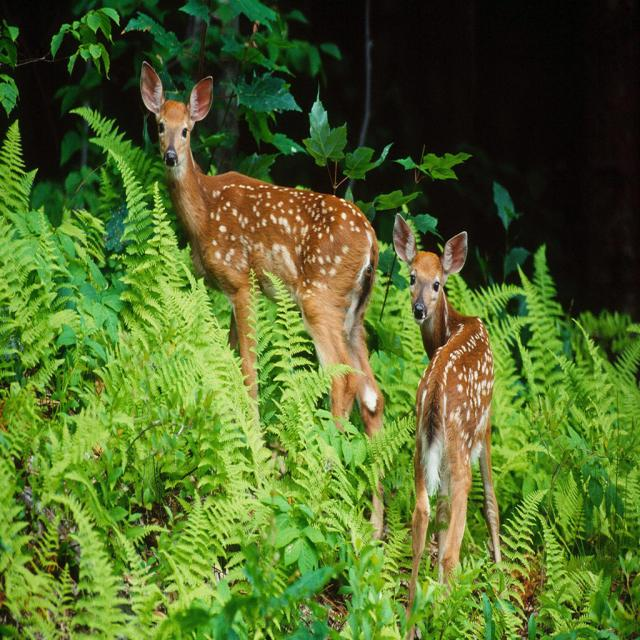Deer: (138, 59, 384, 546), (392, 212, 510, 639)
